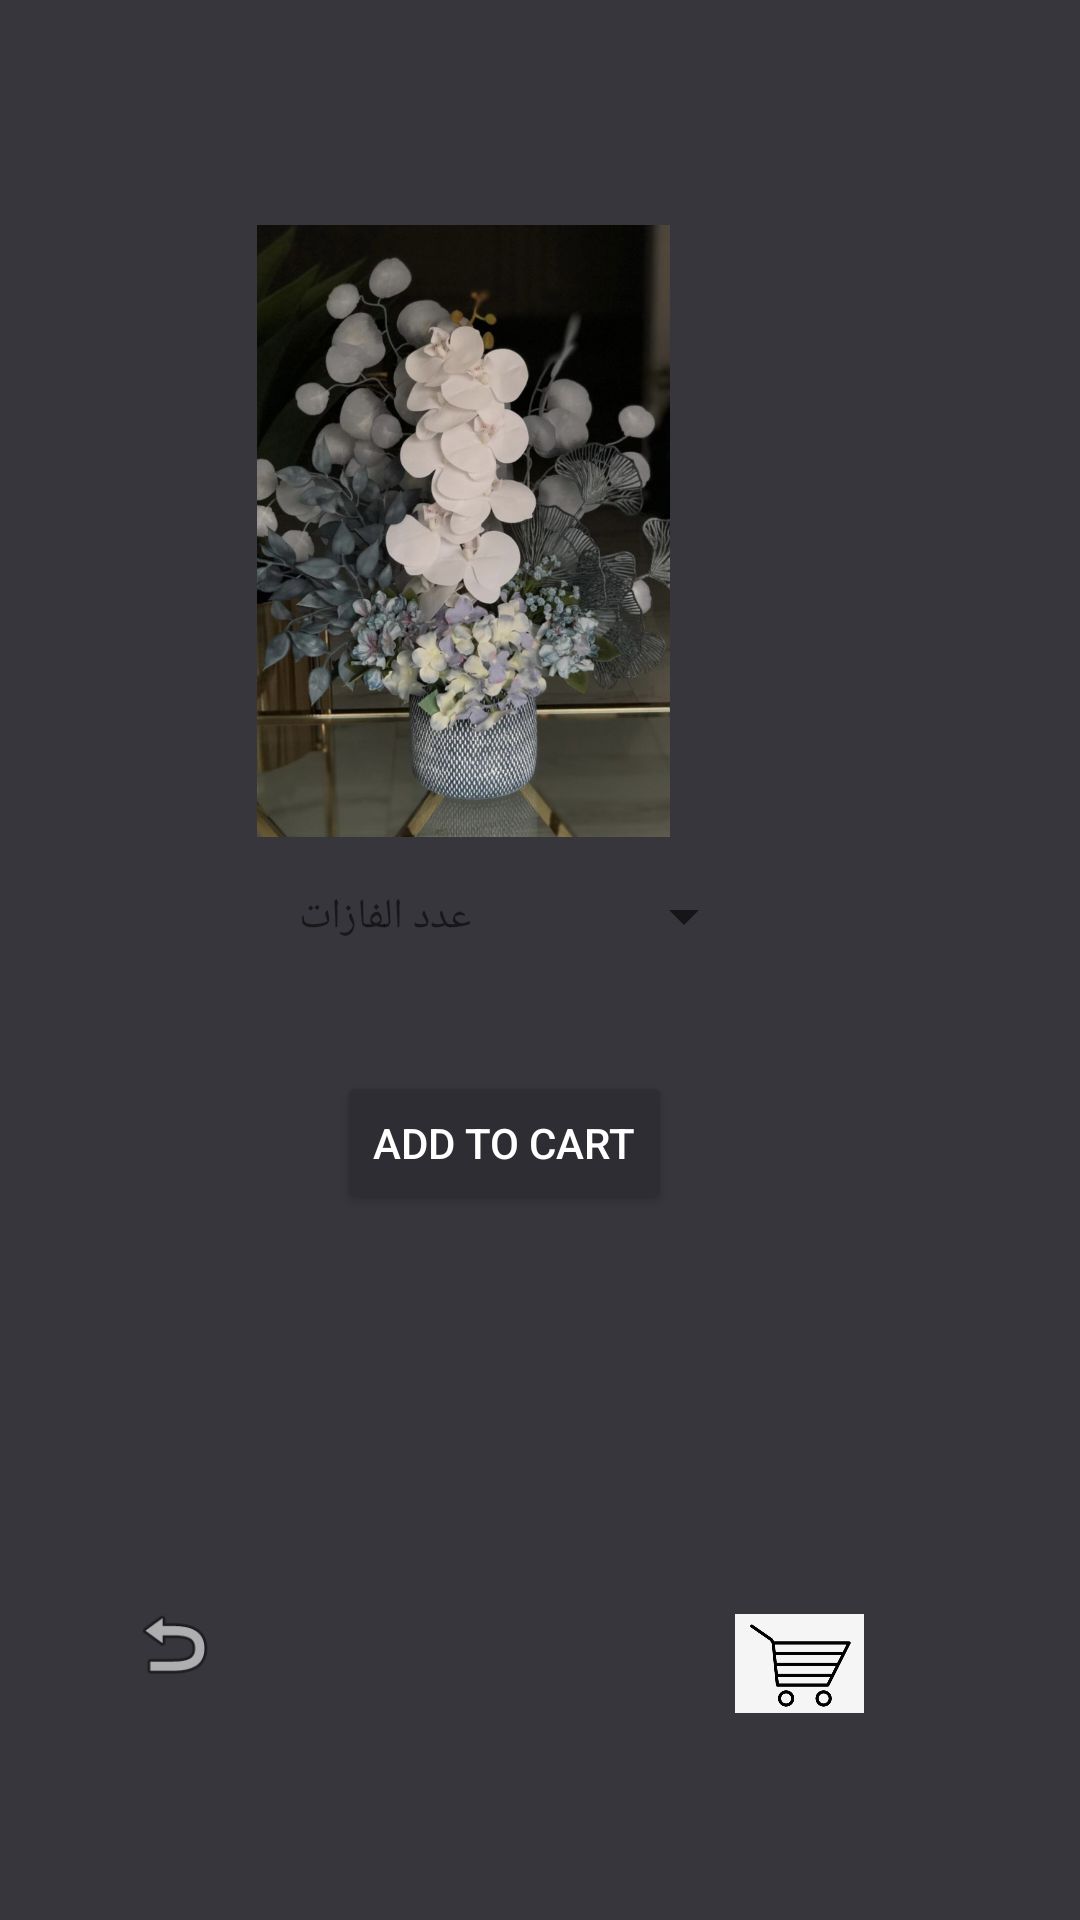

Point at icon controls on the screen. Image size 1080px×1920px, points as (x=x, y=y).
revert: (x=175, y=1644)
